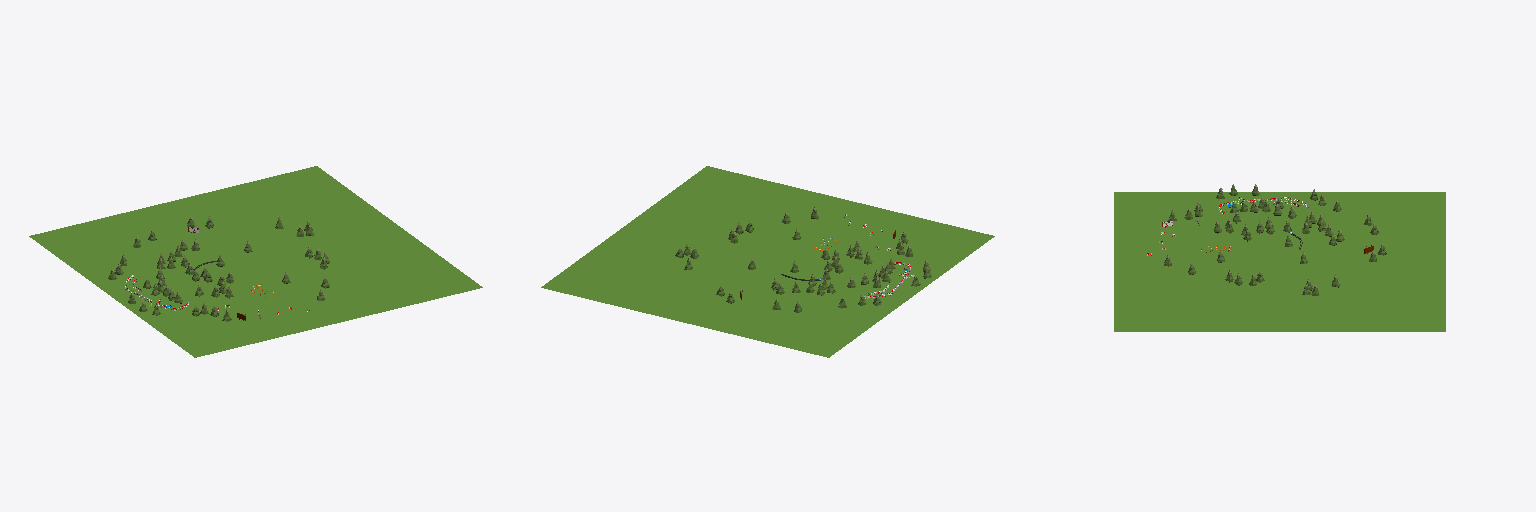
3 views of the same model, side by side, from view 1: azimuth 30°, elevation 25°; view 2: azimuth 150°, elevation 25°; view 3: azimuth 270°, elevation 25° (orthographic).
Parts seen in each view (by area): view 1: Ground; view 2: Ground; view 3: Ground.
Boxes of the visible parts, x1,y1,x2,y2 form: Ground: [29, 166, 482, 357]; Ground: [541, 166, 994, 357]; Ground: [1114, 192, 1445, 331].
Bounding box in the file's own units: 717 × 33.49 × 717.
2 materials, 1 textured.